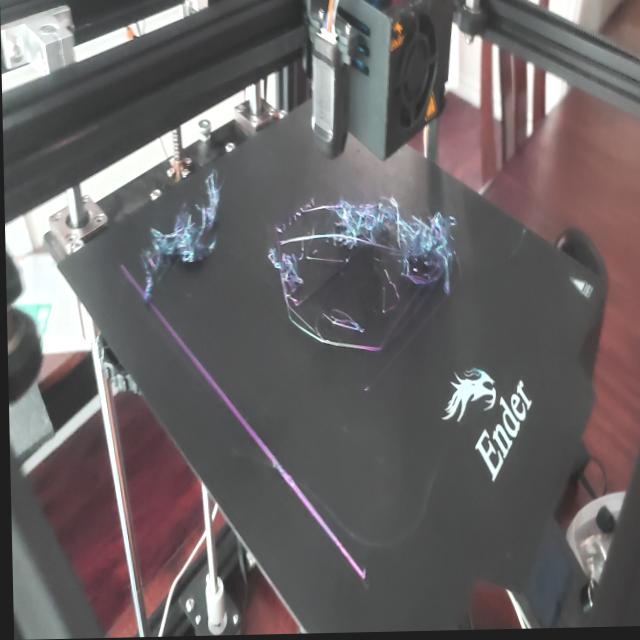spaghetti: (121, 156, 234, 334), (333, 184, 466, 305), (257, 225, 305, 317), (321, 297, 367, 351)
